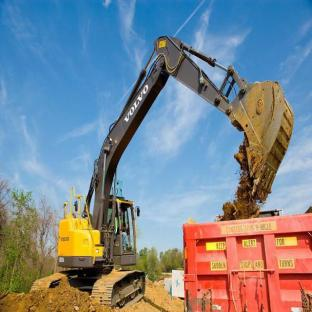ExcavationMachinery: (34, 31, 291, 306)
Vehicle: (176, 207, 312, 312)
